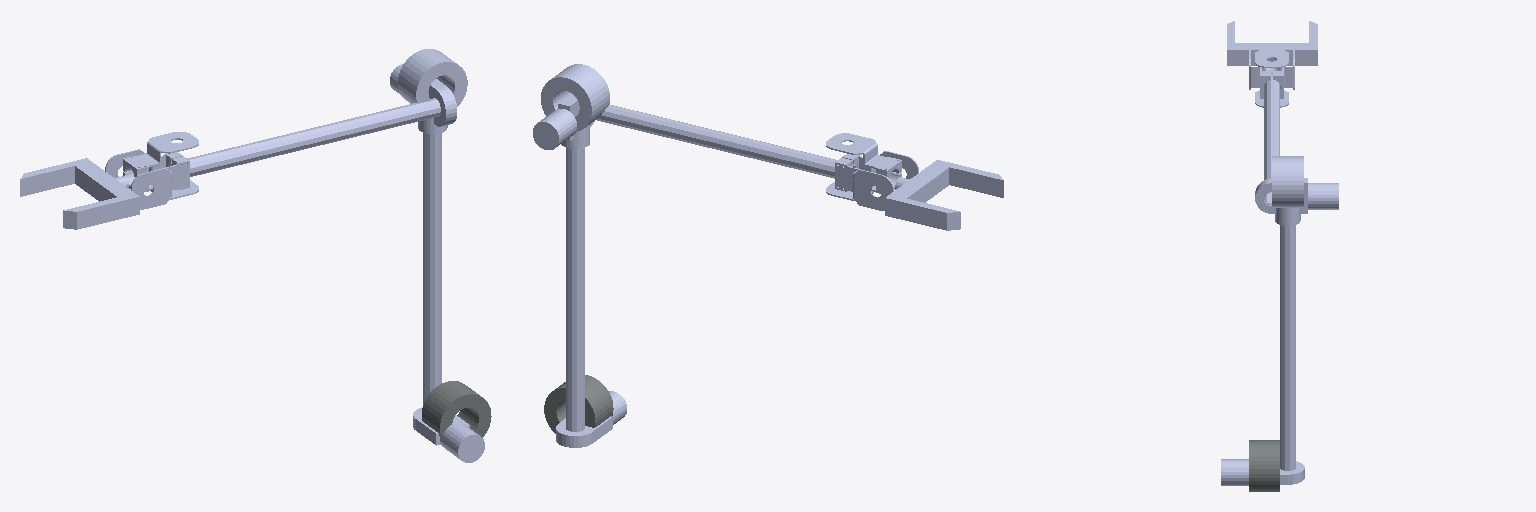
robot.urdf — robot_arm_urdf_complete:
<?xml version="1.0" encoding="utf-8"?>
<!-- This URDF was automatically created by SolidWorks to URDF Exporter! Originally created by [author] ([email redacted]) 
     Commit Version: 1.6.0-4-g7f85cfe  Build Version: 1.6.7995.38578
     For more information, please see http://wiki.ros.org/sw_urdf_exporter -->
<robot 
  name="robot_arm_urdf_complete">
  <link
    name="base_link">
    <inertial>
      <origin
        xyz="2.5327E-16 0.035188 -1.1102E-16"
        rpy="0 0 0" />
      <mass
        value="3" />
      <inertia
        ixx="0.0060784"
        ixy="1.8521E-17"
        ixz="-6.4669E-32"
        iyy="0.0087307"
        iyz="-9.2605E-18"
        izz="0.0060784" />
    </inertial>
    <visual>
      <origin
        xyz="0 0 0"
        rpy="0 0 0" />
      <geometry>
        <mesh
          filename="package://urdf_visualization/urdf/meshes_2/base_link.STL" />
      </geometry>
      <material
        name="">
        <color
          rgba="0.52941 0.54902 0.54902 1" />
      </material>
    </visual>
    <collision>
      <origin
        xyz="0 0 0"
        rpy="0 0 0" />
      <geometry>
        <mesh
          filename="package://urdf_visualization/urdf/meshes_2/base_link.STL" />
      </geometry>
    </collision>
  </link>
  <link
    name="link_1">
    <inertial>
      <origin
        xyz="2.142E-09 0.14365 0.6139"
        rpy="0 0 0" />
      <mass
        value="5.2706" />
      <inertia
        ixx="0.016945"
        ixy="5.3984E-09"
        ixz="1.7903E-09"
        iyy="0.01863"
        iyz="-4.1483E-17"
        izz="0.0077042" />
    </inertial>
    <visual>
      <origin
        xyz="0 0 0"
        rpy="0 0 0" />
      <geometry>
        <mesh
          filename="package://urdf_visualization/urdf/meshes_2/link_1.STL" />
      </geometry>
      <material
        name="">
        <color
          rgba="0.79608 0.82353 0.93725 1" />
      </material>
    </visual>
    <collision>
      <origin
        xyz="0 0 0"
        rpy="0 0 0" />
      <geometry>
        <mesh
          filename="package://urdf_visualization/urdf/meshes_2/link_1.STL" />
      </geometry>
    </collision>
  </link>
  <joint
    name="joint_1"
    type="revolute">
    <origin
      xyz="0 0 0"
      rpy="0 0 0" />
    <parent
      link="base_link" />
    <child
      link="link_1" />
    <axis
      xyz="0 -1 0" />
    <limit
      lower="-1.5707"
      upper="1.5707"
      effort="63"
      velocity="10" />
  </joint>
  <link
    name="link_2">
    <inertial>
      <origin
        xyz="-0.22922 -0.11307 3.3307E-16"
        rpy="0 0 0" />
      <mass
        value="4" />
      <inertia
        ixx="0.0014596"
        ixy="4.4067E-17"
        ixz="1.0177E-18"
        iyy="0.0077228"
        iyz="4.005E-18"
        izz="0.0086424" />
    </inertial>
    <visual>
      <origin
        xyz="0 0 0"
        rpy="0 0 0" />
      <geometry>
        <mesh
          filename="package://urdf_visualization/urdf/meshes_2/link_2.STL" />
      </geometry>
      <material
        name="">
        <color
          rgba="0.79608 0.82353 0.93725 1" />
      </material>
    </visual>
    <collision>
      <origin
        xyz="0 0 0"
        rpy="0 0 0" />
      <geometry>
        <mesh
          filename="package://urdf_visualization/urdf/meshes_2/link_2.STL" />
      </geometry>
    </collision>
  </link>
  <joint
    name="joint_2"
    type="revolute">
    <origin
      xyz="0 0.11456 0.69567"
      rpy="0 0 0" />
    <parent
      link="link_1" />
    <child
      link="link_2" />
    <axis
      xyz="0 1 0" />
    <limit
      lower="-1.60"
      upper="3.1416"
      effort="30"
      velocity="10" />
  </joint>
  <link
    name="link_3">
    <inertial>
      <origin
        xyz="-3.3307E-16 -0.0093503 5.5511E-16"
        rpy="0 0 0" />
      <mass
        value="0.44193" />
      <inertia
        ixx="0.0005806"
        ixy="6.0881E-20"
        ixz="1.552E-20"
        iyy="0.00049195"
        iyz="1.0972E-19"
        izz="0.00036194" />
    </inertial>
    <visual>
      <origin
        xyz="0 0 0"
        rpy="0 0 0" />
      <geometry>
        <mesh
          filename="package://urdf_visualization/urdf/meshes_2/link_3.STL" />
      </geometry>
      <material
        name="">
        <color
          rgba="0.79216 0.81961 0.93333 1" />
      </material>
    </visual>
    <collision>
      <origin
        xyz="0 0 0"
        rpy="0 0 0" />
      <geometry>
        <mesh
          filename="package://urdf_visualization/urdf/meshes_2/link_3.STL" />
      </geometry>
    </collision>
  </link>
  <joint
    name="joint_3"
    type="revolute">
    <origin
      xyz="-0.68187 -0.14975 0"
      rpy="3.1416 -1.5708 1.5708" />
    <parent
      link="link_2" />
    <child
      link="link_3" />
    <axis
      xyz="0 0 1" />
    <limit
      lower="-1.6"
      upper="1.6"
      effort="24"
      velocity="3" />
  </joint>
  <link
    name="link_4">
    <inertial>
      <origin
        xyz="-3.3307E-16 -0.054647 6.1409E-16"
        rpy="0 0 0" />
      <mass
        value="0.4756" />
      <inertia
        ixx="0.0032368"
        ixy="-2.7595E-18"
        ixz="2.3927E-18"
        iyy="0.0024386"
        iyz="3.9635E-20"
        izz="0.00091082" />
    </inertial>
    <visual>
      <origin
        xyz="0 0 0"
        rpy="0 0 0" />
      <geometry>
        <mesh
          filename="package://urdf_visualization/urdf/meshes_2/link_4.STL" />
      </geometry>
      <material
        name="">
        <color
          rgba="0.79216 0.81961 0.93333 1" />
      </material>
    </visual>
    <collision>
      <origin
        xyz="0 0 0"
        rpy="0 0 0" />
      <geometry>
        <mesh
          filename="package://urdf_visualization/urdf/meshes_2/link_4.STL" />
      </geometry>
    </collision>
  </link>
  <joint
    name="joint_4"
    type="revolute">
    <origin
      xyz="0 -0.0381 0"
      rpy="0 0 0" />
    <parent
      link="link_3" />
    <child
      link="link_4" />
    <axis
      xyz="0 -1 0" />
    <limit
      lower="-3.14"
      upper="3.14"
      effort="0"
      velocity="0" />
  </joint>

</robot>

--- What the picture shows (computed from the rendered views, not written in the file) ---
The picture shows the robot from 3 angles, left to right: view 1: azimuth 30°, elevation 25°; view 2: azimuth 150°, elevation 25°; view 3: azimuth 270°, elevation 25°; orthographic projection.
Robot: robot_arm_urdf_complete — 5 links, 4 joints (4 revolute); root link base_link; default pose: every joint at zero.
Visible links, largest first — view 1: link_1, link_2, link_4, base_link, link_3; view 2: link_1, link_2, link_4, base_link, link_3; view 3: link_1, link_2, link_4, base_link, link_3.
Boxes of the visible links, x1,y1,x2,y2 form: link_1: (398,49,484,462); link_2: (105,64,456,209); link_4: (20,158,139,229); base_link: (422,381,491,437); link_3: (123,132,198,199); link_1: (541,64,626,447); link_2: (533,94,918,210); link_4: (885,160,1003,230); base_link: (544,375,613,433); link_3: (826,133,901,200); link_1: (1221,156,1304,485); link_2: (1249,49,1338,213); link_4: (1227,21,1317,65); base_link: (1249,440,1279,491); link_3: (1255,49,1288,107).
Bounding box of the posed robot: 0.9706 × 0.2643 × 0.8059 m (x, y, z).
Meshes: 5 distinct files referenced, 5 mesh visuals loaded (5 binary STL).